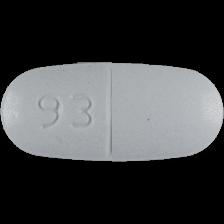0093-1063: (0, 0, 224, 224)
